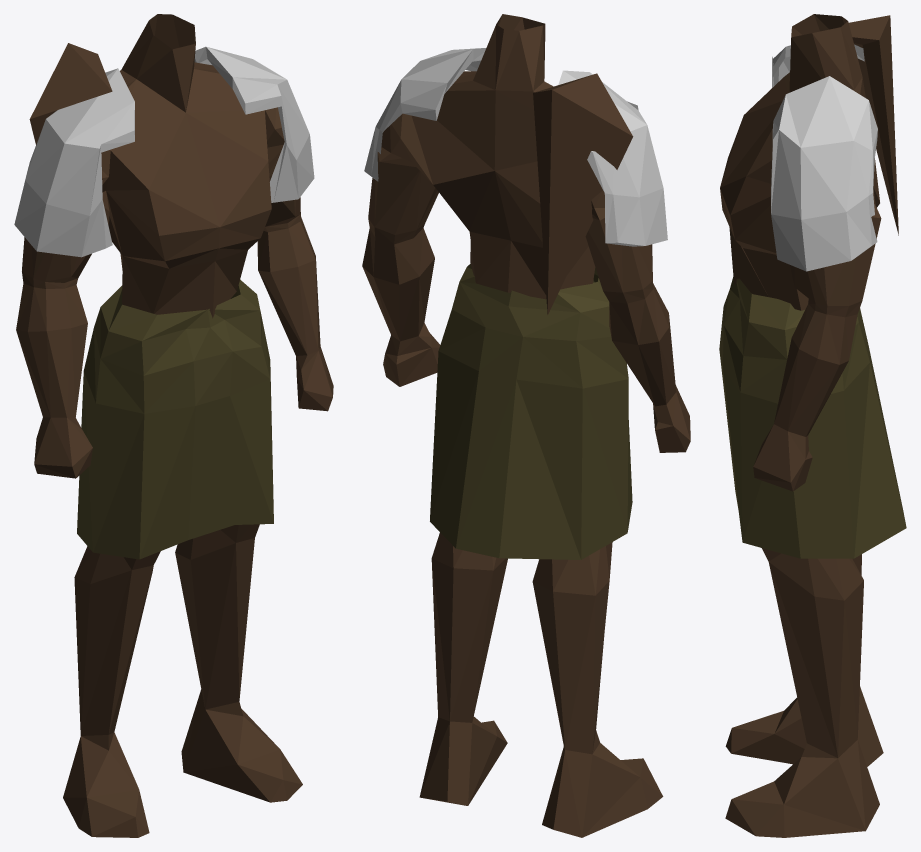
Rendered from HUM_IE_PFEIFFER_INSTRUMENT.OBJ.
3 views of the same model, side by side, from view 1: azimuth 30°, elevation 25°; view 2: azimuth 150°, elevation 25°; view 3: azimuth 270°, elevation 25° (orthographic).
Visible parts, largest first — view 1: HUM_IE_PFEIFFER_INSTRUMENT; view 2: HUM_IE_PFEIFFER_INSTRUMENT; view 3: HUM_IE_PFEIFFER_INSTRUMENT.
Boxes of the visible parts, x1,y1,x2,y2 form: HUM_IE_PFEIFFER_INSTRUMENT: (14,14,333,837); HUM_IE_PFEIFFER_INSTRUMENT: (362,14,690,837); HUM_IE_PFEIFFER_INSTRUMENT: (719,14,906,837).
Size of the model in its own units: 0.6986 by 1.71 by 0.3738.
